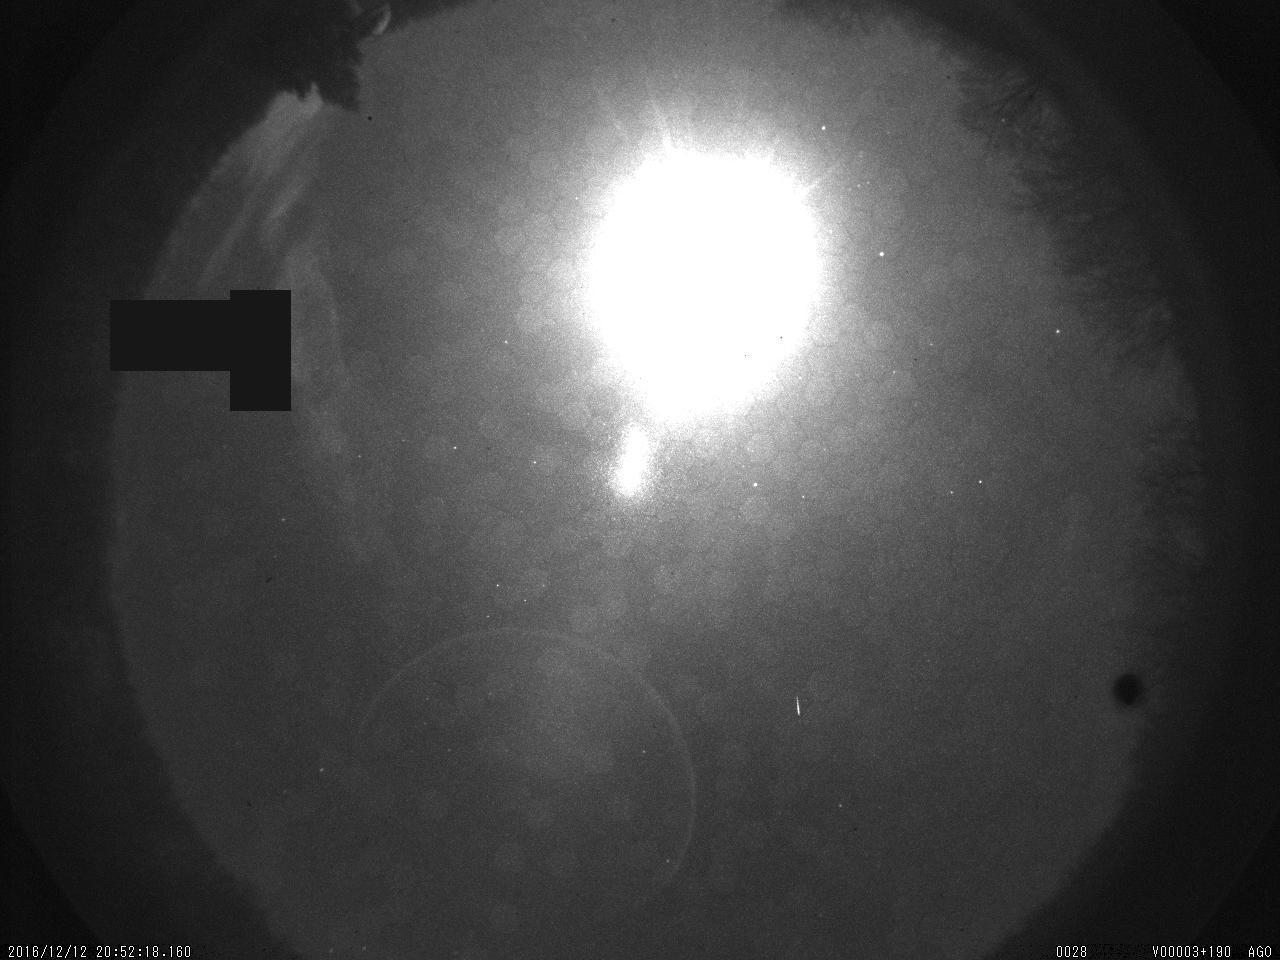meteor: (789, 689, 810, 721)
